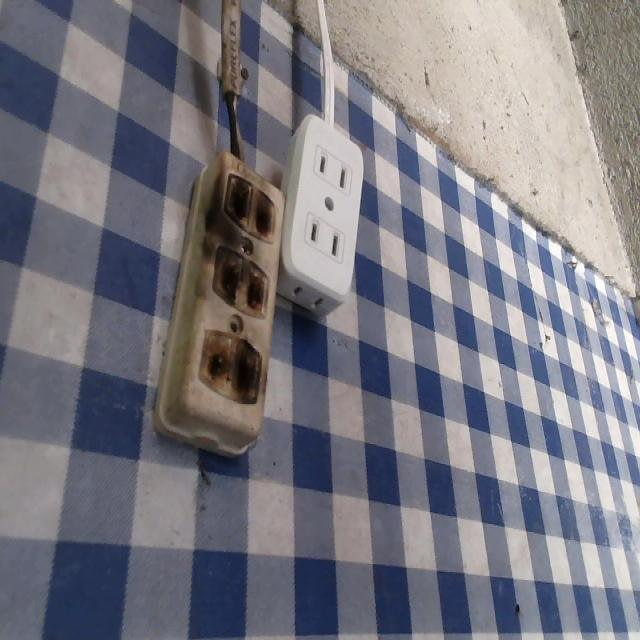-: (201, 327, 267, 424), (219, 169, 285, 243), (212, 247, 272, 317)
